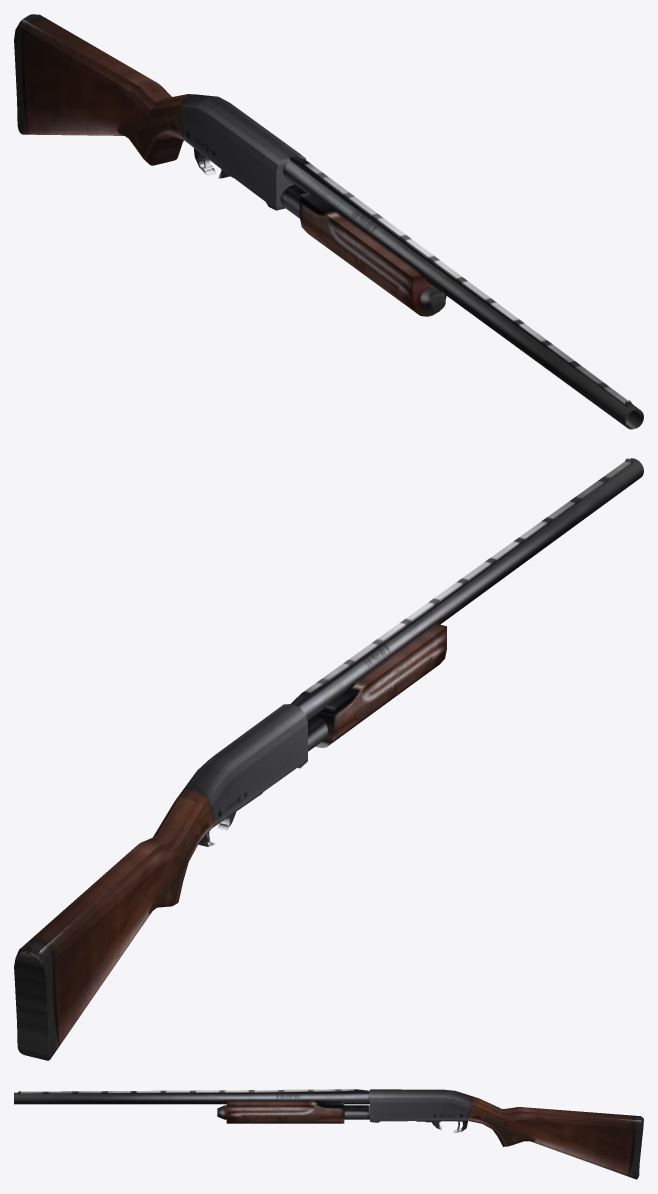
The model's file is shotgunr870.fbx.
3 views of the same model, one above another, from view 1: azimuth 30°, elevation 25°; view 2: azimuth 150°, elevation 25°; view 3: azimuth 270°, elevation 25° (orthographic). The views are drawn at different scales.
Visible parts, largest first — view 1: Vert; view 2: Vert; view 3: Vert.
Part boxes in pixels (<box>): Vert: <box>14,14,643,429</box>; Vert: <box>14,458,643,1060</box>; Vert: <box>14,1089,643,1179</box>.
Size of the model in its own units: 16.14 by 75.19 by 495.
